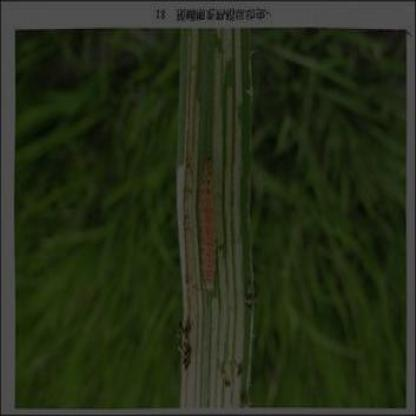leaf-folder: (192, 141, 223, 296)
